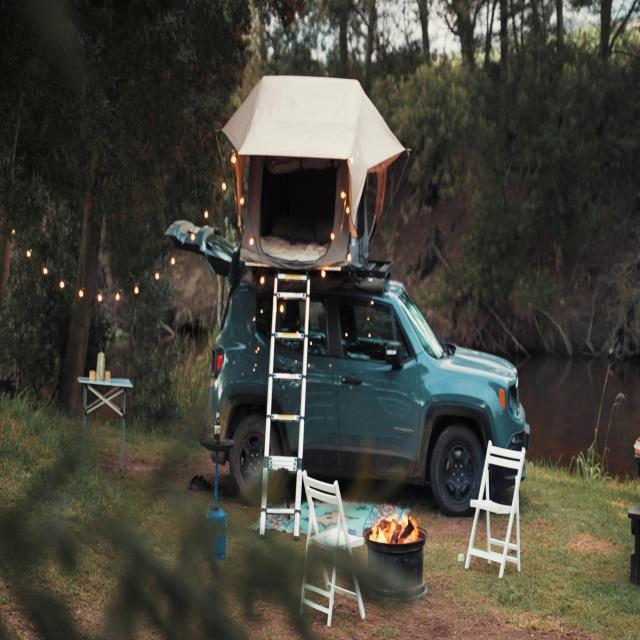Fire: (369, 502, 418, 547)
